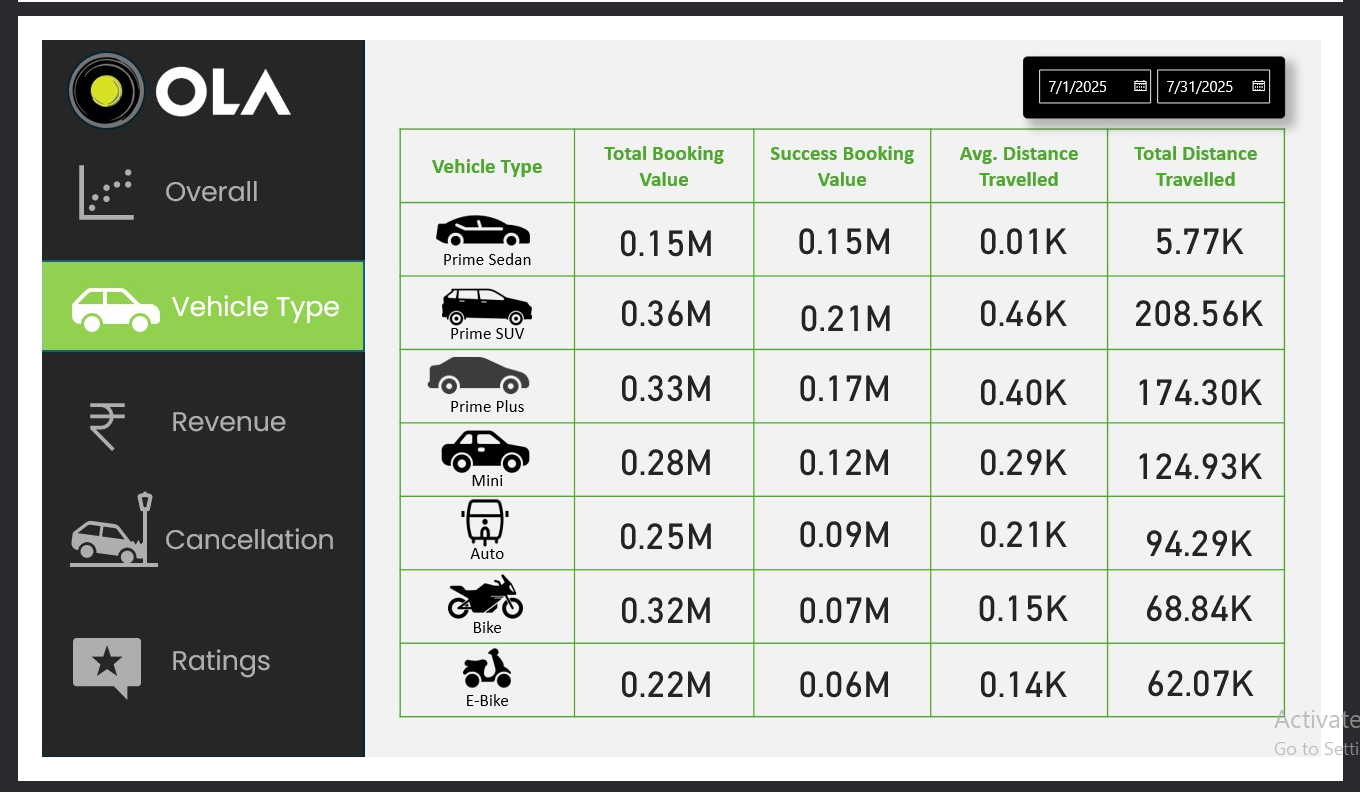

The page's visual inventory and layout, read from the dashboard file:
{"tool":"powerbi","page":{"name":"Vehicle Type","canvas":[1280,720],"ordinal":1},"visuals":[{"type":"actionButton","box":[0,122.7,324.6,90.7],"z":0},{"type":"actionButton","box":[0,327.2,324.6,90.7],"z":1000},{"type":"actionButton","box":[0,446,324.6,90.7],"z":2000},{"type":"actionButton","box":[0,572.5,324.6,90.7],"z":3000},{"type":"actionButton","box":[1.4,107.1,324.3,90],"z":4000},{"type":"actionButton","box":[11.4,117.1,324.3,90],"z":5000},{"type":"card","fields":{"Values":["Sum(Bookings.Booking Value)"]},"box":[542.9,162.9,161.4,74.3],"z":6000},{"type":"card","fields":{"Values":["Sum(Bookings.Booking Value)"]},"box":[542.9,307.1,161.4,74.3],"z":7000},{"type":"card","fields":{"Values":["Sum(Bookings.Booking Value)"]},"box":[542.9,381.4,161.4,74.3],"z":8000},{"type":"card","fields":{"Values":["Sum(Bookings.Booking Value)"]},"box":[542.9,455.7,161.4,74.3],"z":9000},{"type":"card","fields":{"Values":["Sum(Bookings.Booking Value)"]},"box":[542.9,530,161.4,74.3],"z":10000},{"type":"card","fields":{"Values":["Sum(Bookings.Booking Value)"]},"box":[542.9,604.3,161.4,74.3],"z":11000},{"type":"card","fields":{"Values":["Sum(Bookings.Booking Value)"]},"box":[542.9,232.9,161.4,74.3],"z":12000},{"type":"card","fields":{"Values":["Sum(Bookings.Booking Value)"]},"box":[721.4,160,161.4,74.3],"z":13000},{"type":"card","fields":{"Values":["Sum(Bookings.Booking Value)"]},"box":[722.9,237.1,161.4,74.3],"z":14000},{"type":"card","fields":{"Values":["Sum(Bookings.Booking Value)"]},"box":[721.4,307.1,161.4,74.3],"z":15000},{"type":"card","fields":{"Values":["Sum(Bookings.Booking Value)"]},"box":[721.4,381.4,161.4,74.3],"z":16000},{"type":"card","fields":{"Values":["Sum(Bookings.Booking Value)"]},"box":[721.4,454.3,161.4,74.3],"z":17000},{"type":"card","fields":{"Values":["Sum(Bookings.Booking Value)"]},"box":[721.4,530,161.4,74.3],"z":18000},{"type":"card","fields":{"Values":["Sum(Bookings.Booking Value)"]},"box":[721.4,604.3,161.4,74.3],"z":19000},{"type":"card","fields":{"Values":["Avg(Bookings.Ride Distance (km))"]},"box":[900,160,161.4,74.3],"z":20000},{"type":"card","fields":{"Values":["Avg(Bookings.Booking Value)"]},"box":[900,528.6,161.4,74.3],"z":21000},{"type":"card","fields":{"Values":["Avg(Bookings.Booking Value)"]},"box":[900,454.3,161.4,74.3],"z":22000},{"type":"card","fields":{"Values":["Avg(Bookings.Booking Value)"]},"box":[900,381.4,161.4,74.3],"z":23000},{"type":"card","fields":{"Values":["Avg(Bookings.Booking Value)"]},"box":[900,311.4,161.4,74.3],"z":24000},{"type":"card","fields":{"Values":["Avg(Bookings.Booking Value)"]},"box":[900,232.9,161.4,74.3],"z":25000},{"type":"card","fields":{"Values":["Avg(Bookings.Booking Value)"]},"box":[900,604.3,161.4,74.3],"z":26000},{"type":"card","fields":{"Values":["Sum(Bookings.Ride Distance (km))"]},"box":[1075.7,160,161.4,74.3],"z":27000},{"type":"card","fields":{"Values":["Sum(Bookings.Booking Value)"]},"box":[1075.7,232.9,161.4,74.3],"z":28000},{"type":"card","fields":{"Values":["Sum(Bookings.Booking Value)"]},"box":[1075.7,311.4,161.4,74.3],"z":29000},{"type":"card","fields":{"Values":["Sum(Bookings.Booking Value)"]},"box":[1075.7,462.9,161.4,74.3],"z":30000},{"type":"card","fields":{"Values":["Sum(Bookings.Booking Value)"]},"box":[1075.7,528.6,161.4,74.3],"z":31000},{"type":"card","fields":{"Values":["Sum(Bookings.Booking Value)"]},"box":[1077.1,602.9,161.4,74.3],"z":32000},{"type":"card","fields":{"Values":["Sum(Bookings.Booking Value)"]},"box":[1075.7,385.7,161.4,74.3],"z":33000},{"type":"slicer","title":"Date","fields":{"Values":["Bookings.Date"]},"box":[981.3,16.6,261.6,62.3],"z":34000}]}

Visuals, with their boxes on the page's 1280x720 design canvas (x1, y1, x2, y2). These are canvas units, not pixel positions in the 1360x792 screenshot, which may show the page scaled, cropped or inside an application window:
actionButton: bbox=(0, 123, 325, 213)
actionButton: bbox=(0, 327, 325, 418)
actionButton: bbox=(0, 446, 325, 537)
actionButton: bbox=(0, 572, 325, 663)
actionButton: bbox=(1, 107, 326, 197)
actionButton: bbox=(11, 117, 336, 207)
card - Sum(Bookings.Booking Value): bbox=(543, 163, 704, 237)
card - Sum(Bookings.Booking Value): bbox=(543, 307, 704, 381)
card - Sum(Bookings.Booking Value): bbox=(543, 381, 704, 456)
card - Sum(Bookings.Booking Value): bbox=(543, 456, 704, 530)
card - Sum(Bookings.Booking Value): bbox=(543, 530, 704, 604)
card - Sum(Bookings.Booking Value): bbox=(543, 604, 704, 679)
card - Sum(Bookings.Booking Value): bbox=(543, 233, 704, 307)
card - Sum(Bookings.Booking Value): bbox=(721, 160, 883, 234)
card - Sum(Bookings.Booking Value): bbox=(723, 237, 884, 311)
card - Sum(Bookings.Booking Value): bbox=(721, 307, 883, 381)
card - Sum(Bookings.Booking Value): bbox=(721, 381, 883, 456)
card - Sum(Bookings.Booking Value): bbox=(721, 454, 883, 529)
card - Sum(Bookings.Booking Value): bbox=(721, 530, 883, 604)
card - Sum(Bookings.Booking Value): bbox=(721, 604, 883, 679)
card - Avg(Bookings.Ride Distance (km)): bbox=(900, 160, 1061, 234)
card - Avg(Bookings.Booking Value): bbox=(900, 529, 1061, 603)
card - Avg(Bookings.Booking Value): bbox=(900, 454, 1061, 529)
card - Avg(Bookings.Booking Value): bbox=(900, 381, 1061, 456)
card - Avg(Bookings.Booking Value): bbox=(900, 311, 1061, 386)
card - Avg(Bookings.Booking Value): bbox=(900, 233, 1061, 307)
card - Avg(Bookings.Booking Value): bbox=(900, 604, 1061, 679)
card - Sum(Bookings.Ride Distance (km)): bbox=(1076, 160, 1237, 234)
card - Sum(Bookings.Booking Value): bbox=(1076, 233, 1237, 307)
card - Sum(Bookings.Booking Value): bbox=(1076, 311, 1237, 386)
card - Sum(Bookings.Booking Value): bbox=(1076, 463, 1237, 537)
card - Sum(Bookings.Booking Value): bbox=(1076, 529, 1237, 603)
card - Sum(Bookings.Booking Value): bbox=(1077, 603, 1238, 677)
card - Sum(Bookings.Booking Value): bbox=(1076, 386, 1237, 460)
"Date" slicer: bbox=(981, 17, 1243, 79)
